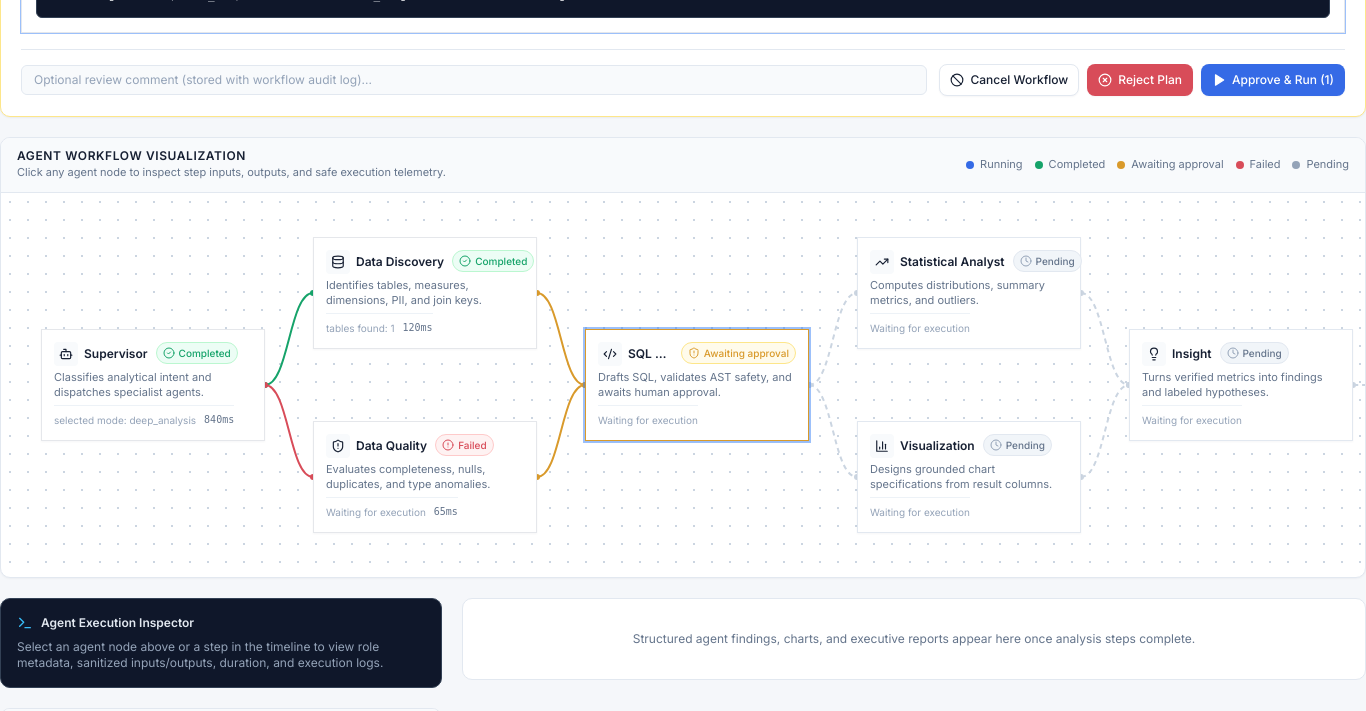
Stage 5 — Multi-Agent Analytics & Workflow Approval UI › renders 8 connected workflow nodes, opens sanitized dark detail inspector on node & timeline clicks
(page scrolled)
Expected: the text "Supervisor" is shown, [84,346,148,362]
Expected: the text "Data Discovery" is shown, [356,254,444,270]
Click the button "Supervisor": (153, 385) [41,329,265,441]
(page scrolled)
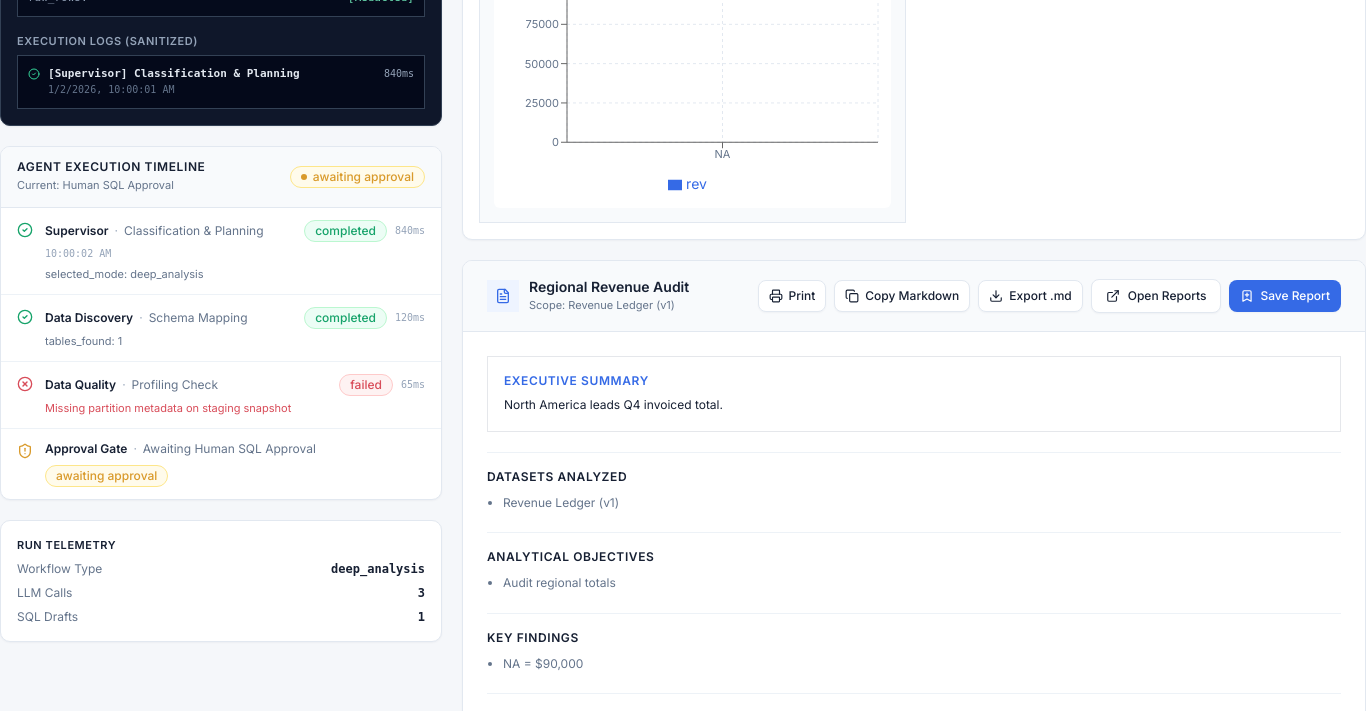
Expected: the text "[Redacted]" is shown 2 times
Click the text "Profiling Check": (175, 384) [132,377,218,392]
(page scrolled)
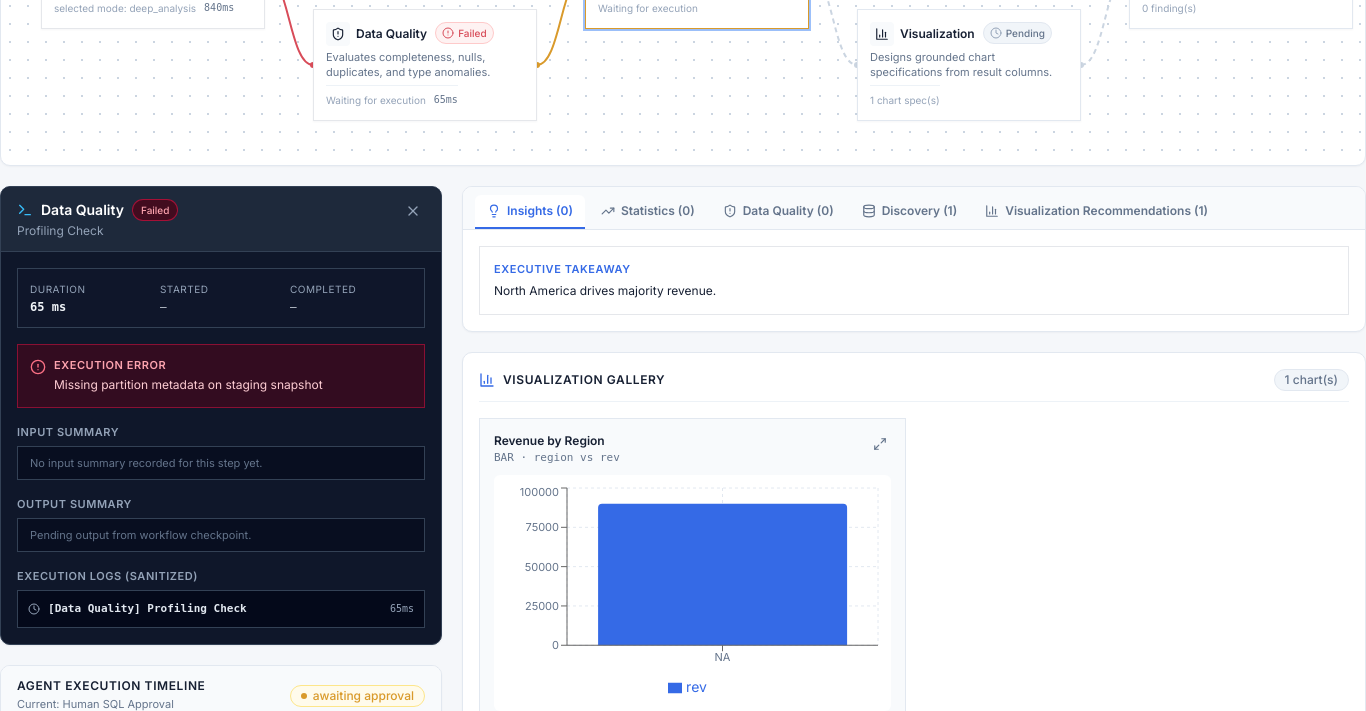
Expected: the text "Missing partition metadata on staging snapshot" is shown, [54,375,323,395]
